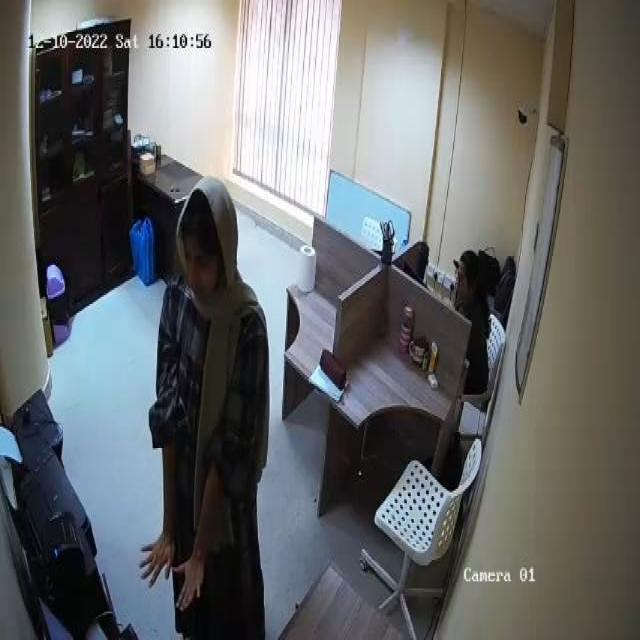bare_hand: (173, 546, 205, 617), (140, 524, 173, 592)
